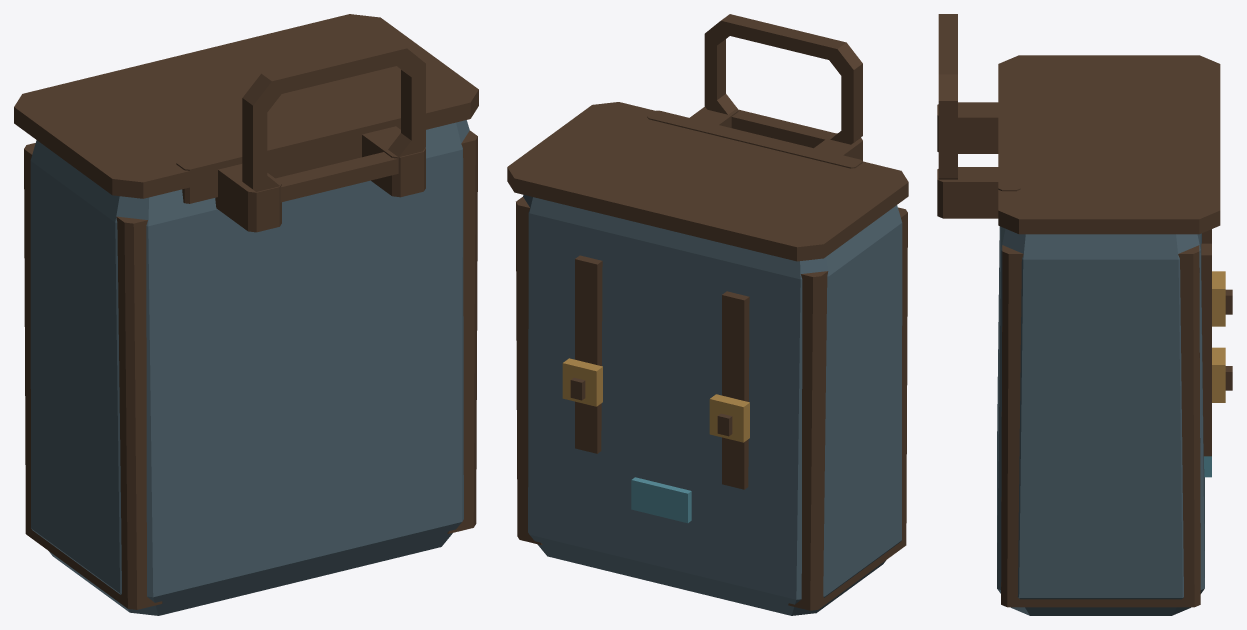
The model's file is visual-far.glb.
3 views of the same model, side by side, from view 1: azimuth 30°, elevation 25°; view 2: azimuth 150°, elevation 25°; view 3: azimuth 270°, elevation 25° (orthographic). The views are drawn at different scales.
Parts seen in each view (by area): view 1: 现有挎包轮廓; view 2: 现有挎包轮廓; view 3: 现有挎包轮廓.
Boxes of the visible parts, left/top/right/bottom form: 现有挎包轮廓: left=14, top=14, right=478, bottom=615; 现有挎包轮廓: left=507, top=14, right=908, bottom=615; 现有挎包轮廓: left=937, top=14, right=1232, bottom=615.
Bounding box in the file's own units: 0.28 × 0.398 × 0.213.
5 materials, 5 textured.
